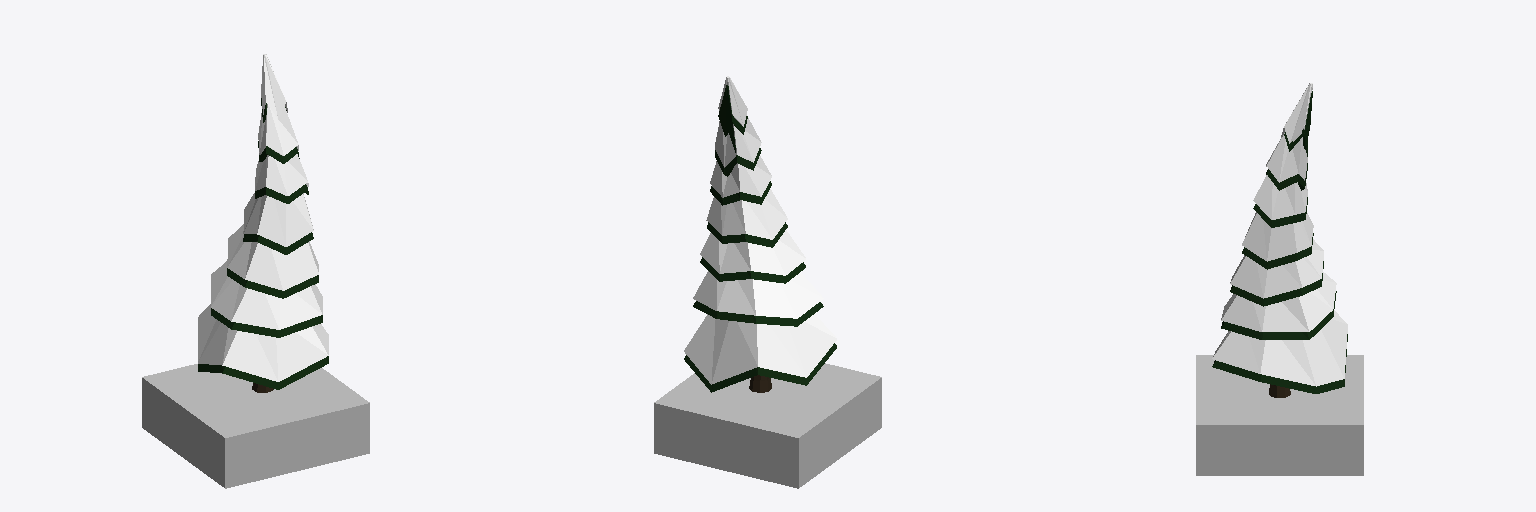
File: Tile_Tree_8.obj
The picture shows the model from 3 angles: view 1: azimuth 30°, elevation 25°; view 2: azimuth 150°, elevation 25°; view 3: azimuth 270°, elevation 25°; orthographic projection.
Parts seen in each view (by area): view 1: Cube, Cylinder.000_Cylinder.004, Cylinder.001_Cylinder.000; view 2: Cylinder.000_Cylinder.004, Cube, Cylinder.001_Cylinder.000; view 3: Cylinder.000_Cylinder.004, Cube, Cylinder.001_Cylinder.000.
Part boxes in pixels (x1,y1,x2,y2): Cube: (142, 364, 369, 488); Cylinder.000_Cylinder.004: (198, 54, 328, 381); Cylinder.001_Cylinder.000: (198, 98, 328, 389); Cylinder.000_Cylinder.004: (684, 76, 836, 384); Cube: (654, 363, 881, 488); Cylinder.001_Cylinder.000: (684, 85, 836, 392); Cylinder.000_Cylinder.004: (1212, 83, 1347, 386); Cube: (1196, 355, 1363, 475); Cylinder.001_Cylinder.000: (1212, 91, 1347, 393).
Bounding box in the file's own units: 3 × 7.31 × 3.